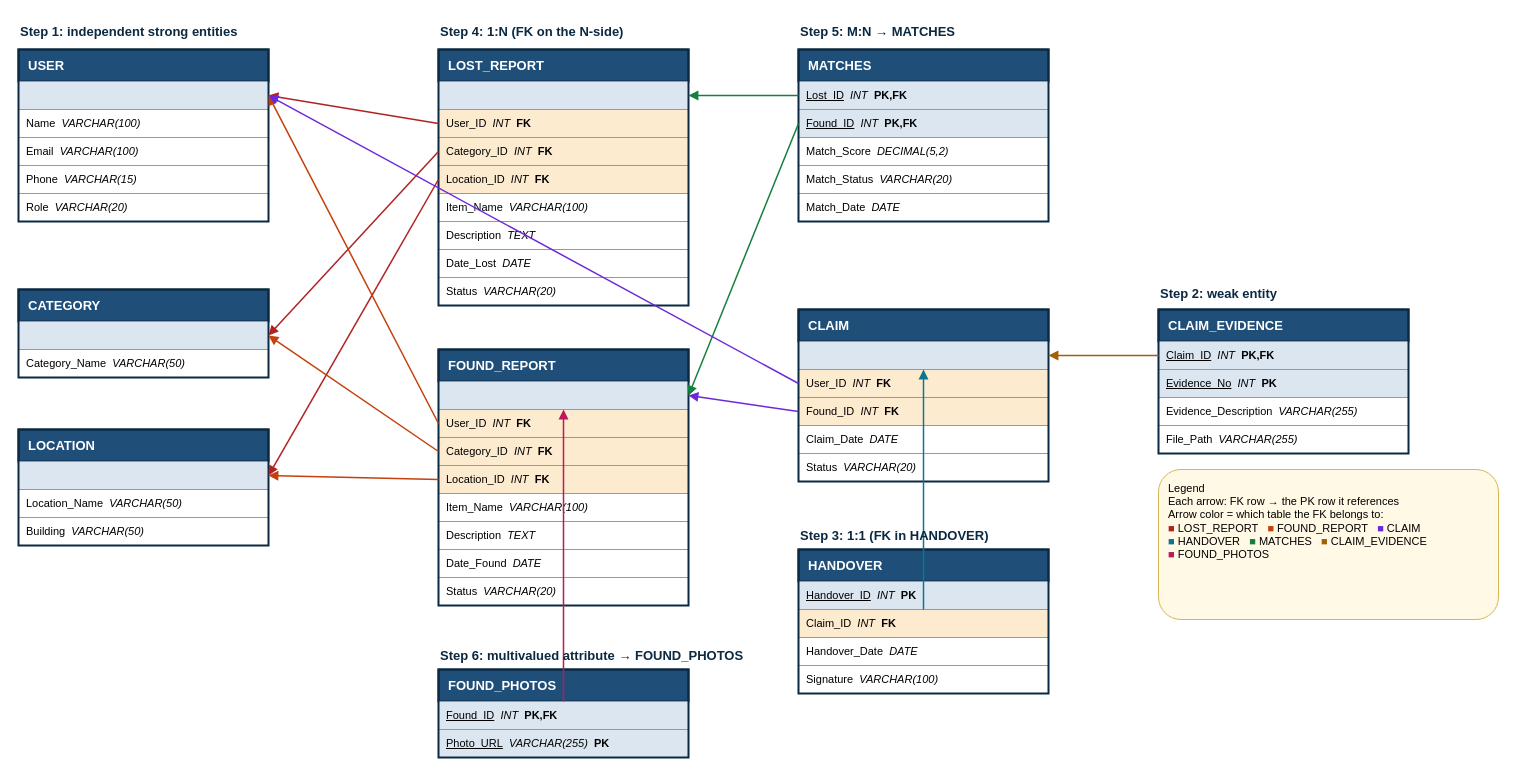
Some shapes in this 1516 by 775 pixel diagram are drawn without their labels. The shapes that lost their labels are listed below. From the top down, each one's centre as x and y in pixels, then its label:
(143,95): User_ID INT PK
(563,95): Lost_ID INT PK
(143,335): Category_ID INT PK
(923,355): Claim_ID INT PK
(563,395): Found_ID INT PK
(143,475): Location_ID INT PK
